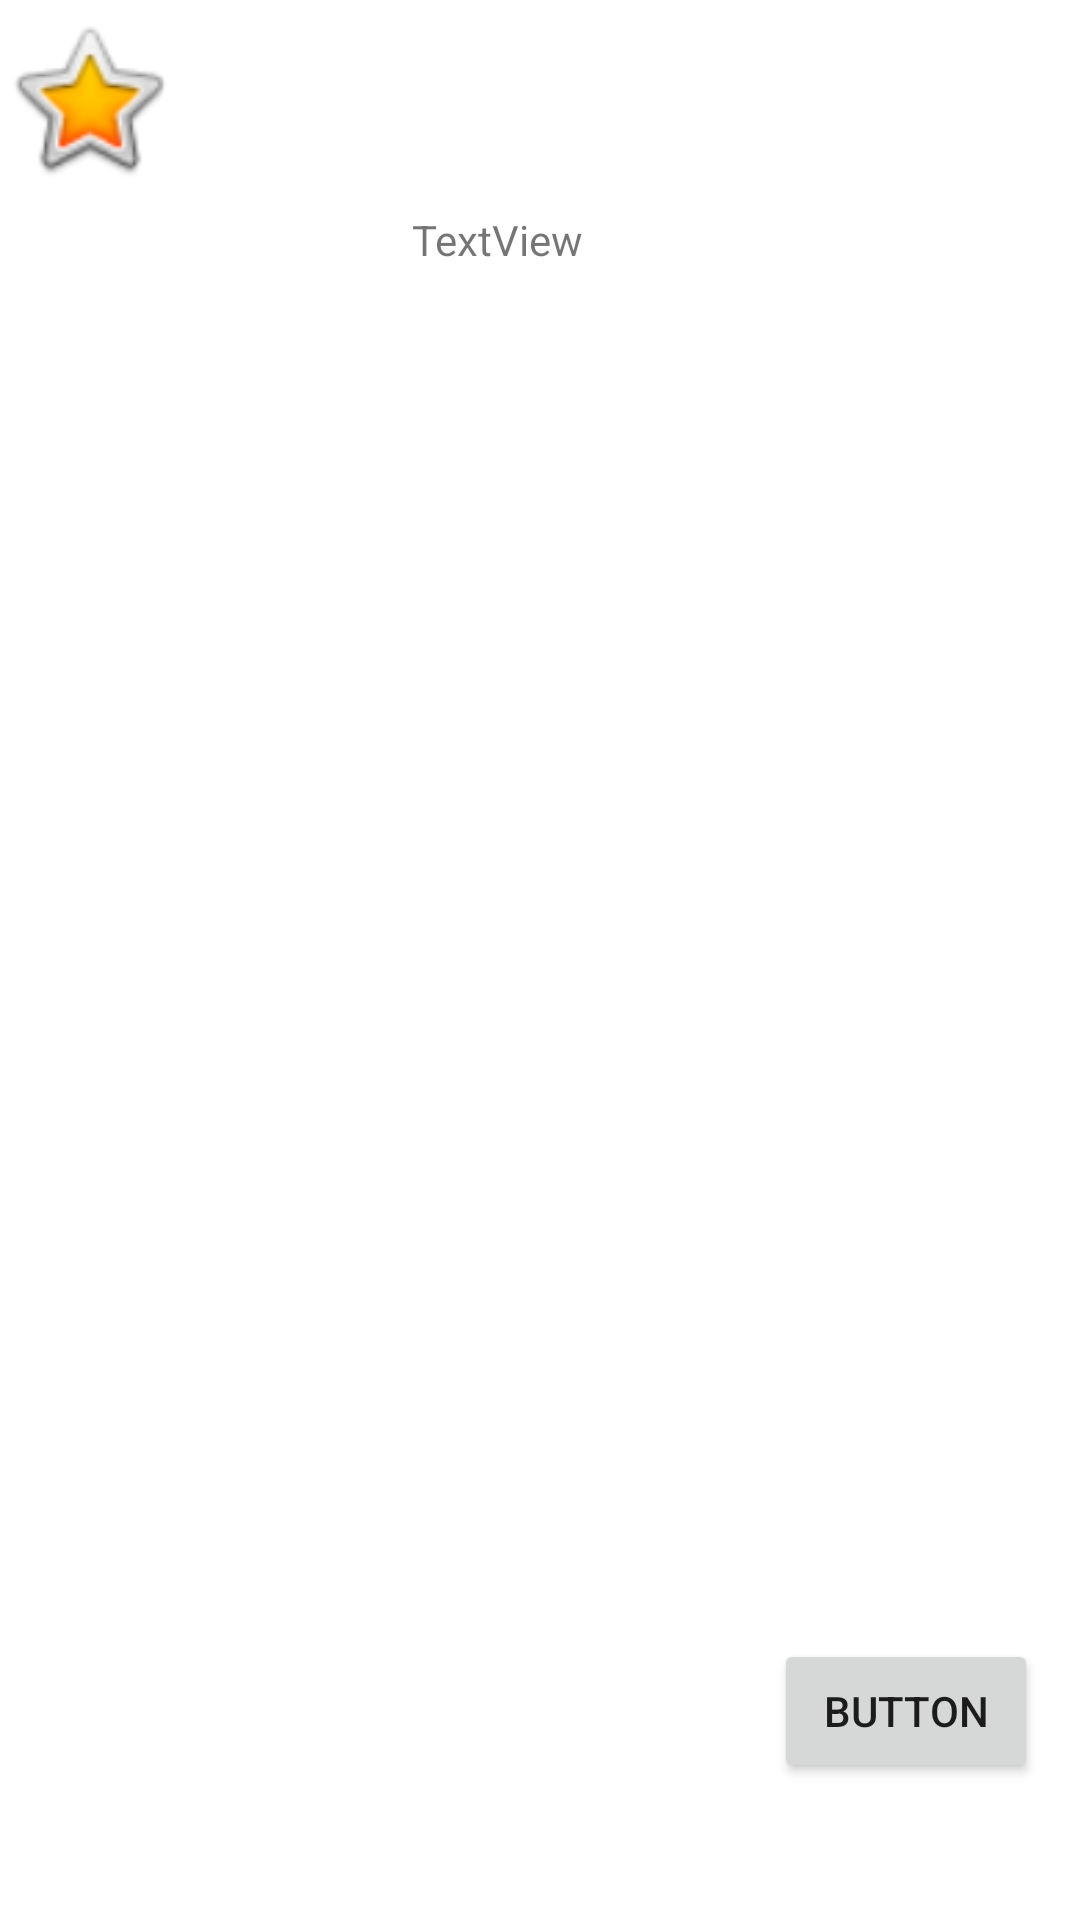

Icons on this 1080w x 1920h Android screen, each with the point to tap as [x,y]:
star on: [90,100]
